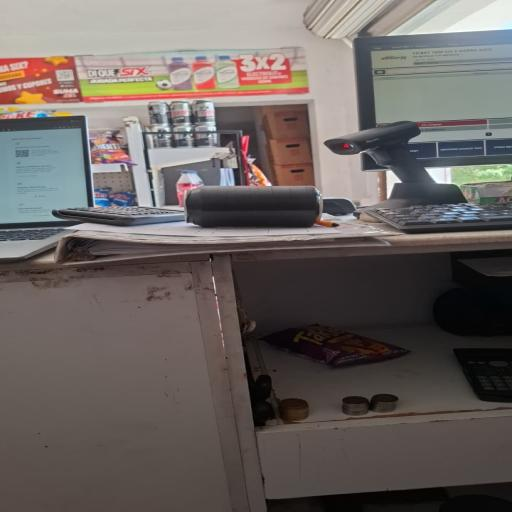LATA: (174, 181, 334, 232)
